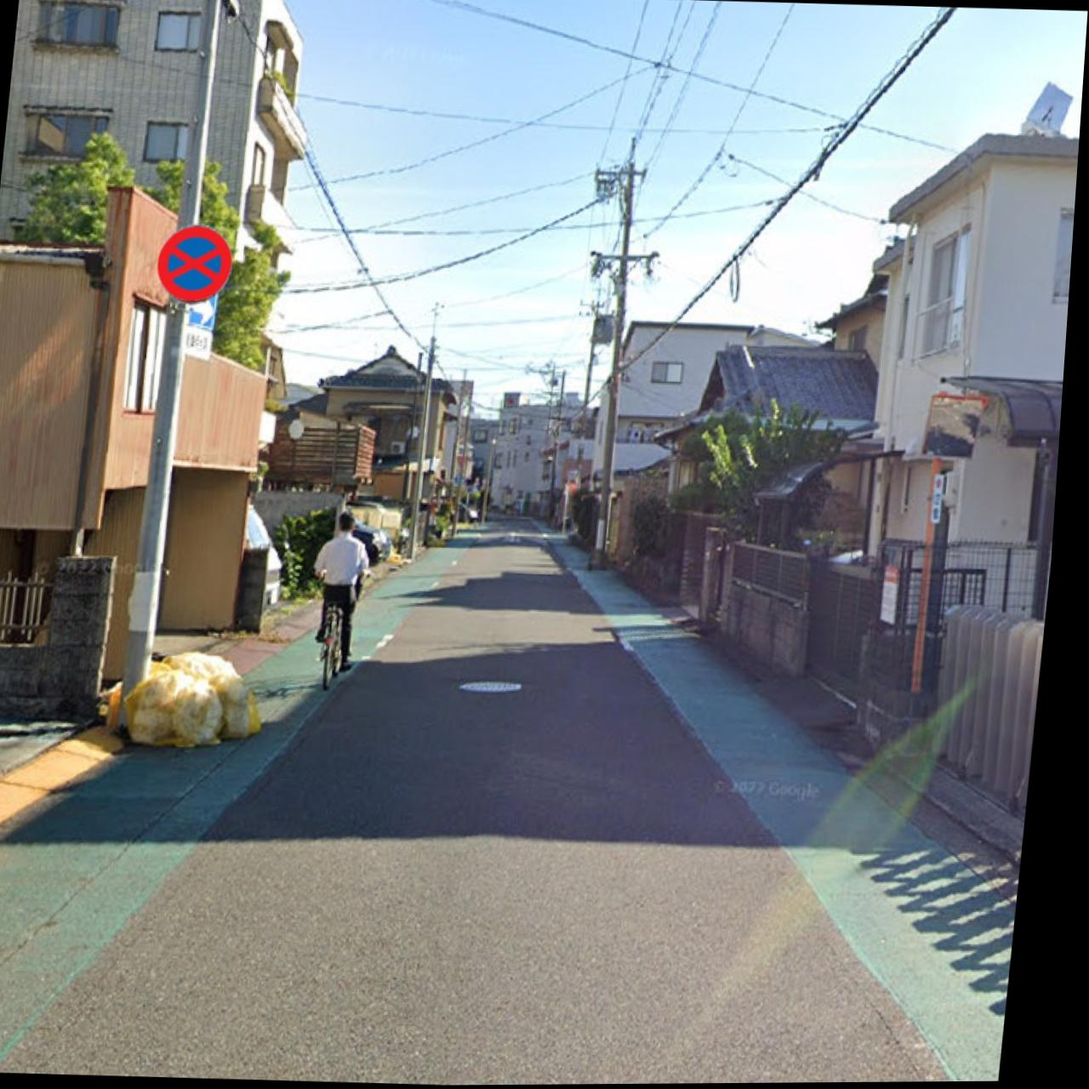stop_sign: (156, 222, 235, 302)
